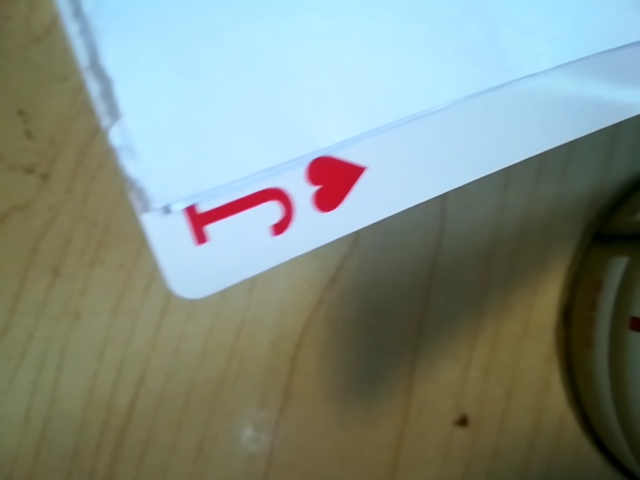hx j: (164, 159, 384, 255)
